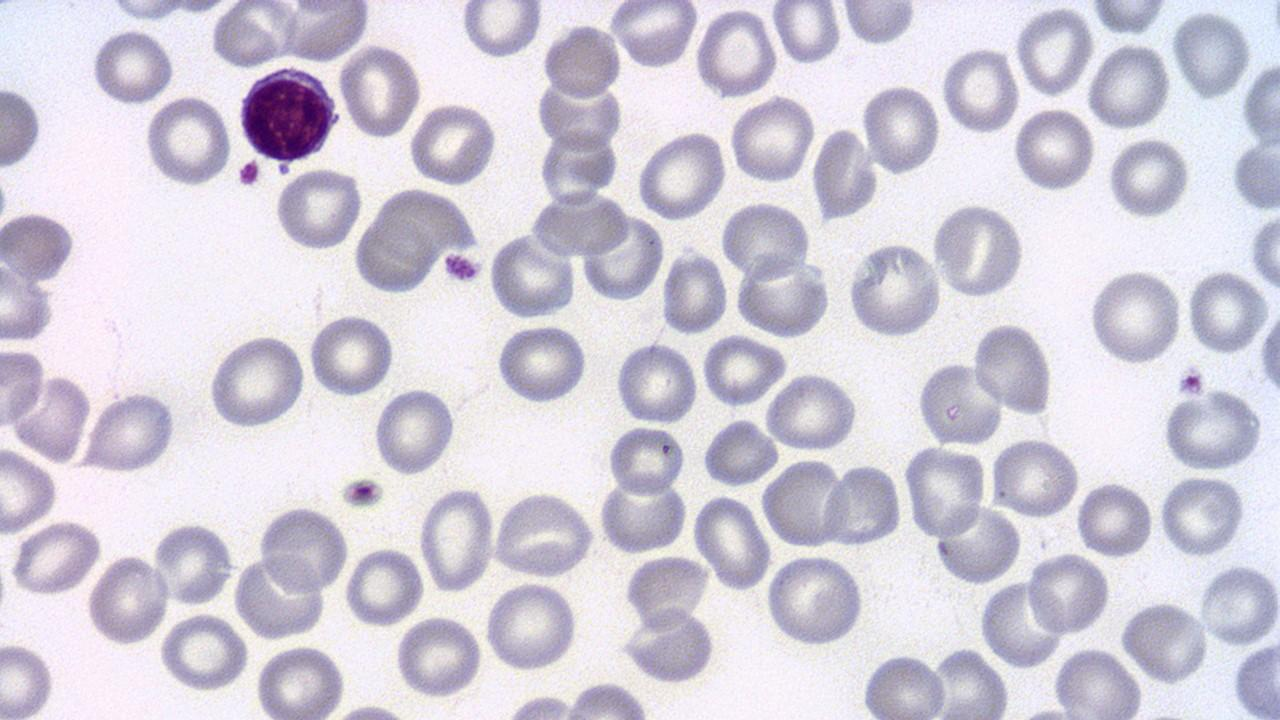Platelets: (338, 474, 386, 510), (441, 250, 485, 286), (236, 157, 261, 189)
RBC: (204, 331, 308, 429), (846, 238, 945, 338), (764, 552, 866, 648), (1086, 266, 1182, 368), (1161, 384, 1265, 473), (492, 490, 596, 578), (482, 580, 580, 672), (933, 202, 1026, 298), (231, 550, 327, 642), (417, 484, 498, 593), (634, 129, 728, 222), (142, 93, 233, 188), (336, 41, 422, 140), (902, 442, 986, 542), (257, 504, 350, 594), (760, 456, 849, 550), (729, 256, 831, 338), (728, 92, 816, 187), (272, 164, 364, 254), (493, 322, 590, 407), (79, 391, 179, 473), (691, 492, 772, 592), (307, 310, 397, 400), (764, 370, 860, 454), (978, 576, 1065, 668), (85, 553, 170, 647), (916, 358, 1004, 448), (694, 6, 780, 98), (406, 101, 499, 186), (11, 368, 92, 465), (861, 80, 942, 176), (486, 232, 574, 320), (618, 605, 716, 684), (392, 614, 484, 698), (372, 385, 456, 477), (1010, 104, 1095, 194), (720, 198, 812, 281), (157, 611, 250, 693), (973, 321, 1053, 416), (579, 212, 663, 302), (990, 434, 1080, 518), (940, 43, 1022, 135), (5, 520, 104, 596), (1185, 268, 1269, 357), (1087, 41, 1171, 130), (1106, 134, 1192, 220), (614, 339, 699, 426), (1158, 474, 1246, 558), (598, 472, 688, 554), (933, 502, 1020, 586), (252, 642, 348, 718), (1014, 6, 1093, 98), (1120, 600, 1208, 682), (1172, 8, 1250, 100), (622, 552, 712, 631), (152, 520, 234, 606), (1027, 550, 1109, 636), (824, 460, 904, 548), (90, 25, 176, 106), (1198, 560, 1278, 646), (343, 544, 424, 628), (536, 124, 622, 203), (350, 217, 434, 296), (811, 124, 879, 221), (532, 188, 626, 258), (1050, 646, 1144, 716), (542, 20, 622, 101), (699, 332, 786, 406), (610, 0, 700, 70), (1074, 479, 1152, 558), (660, 246, 728, 335), (858, 652, 948, 718), (607, 423, 686, 498), (930, 644, 1010, 718), (1, 208, 77, 282), (702, 415, 779, 488), (0, 445, 59, 534), (286, 1, 368, 62), (460, 1, 543, 60), (771, 0, 842, 65), (0, 639, 58, 717), (209, 9, 283, 70), (0, 259, 52, 342), (0, 347, 48, 430), (0, 81, 44, 170), (1240, 58, 1280, 152), (1231, 135, 1279, 212), (1231, 640, 1279, 717), (563, 680, 652, 719), (840, 1, 916, 45), (1088, 0, 1170, 35), (1249, 211, 1279, 294)
WBC: (236, 65, 342, 165)
